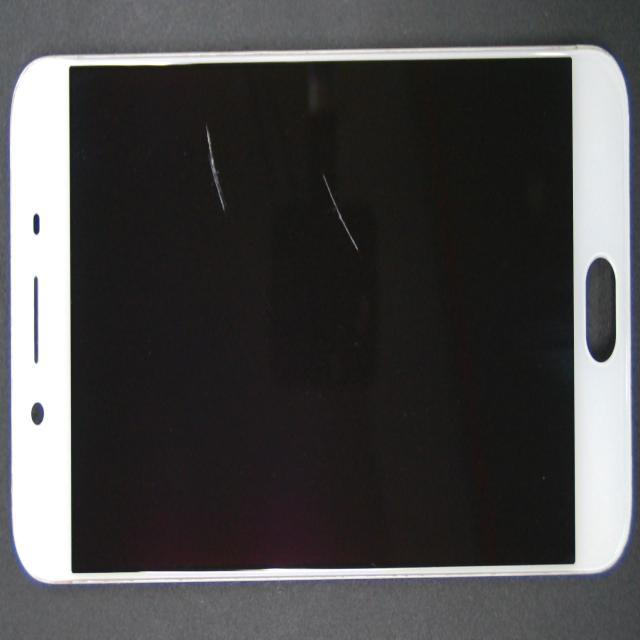scratch: (315, 160, 362, 257), (196, 124, 231, 223)
